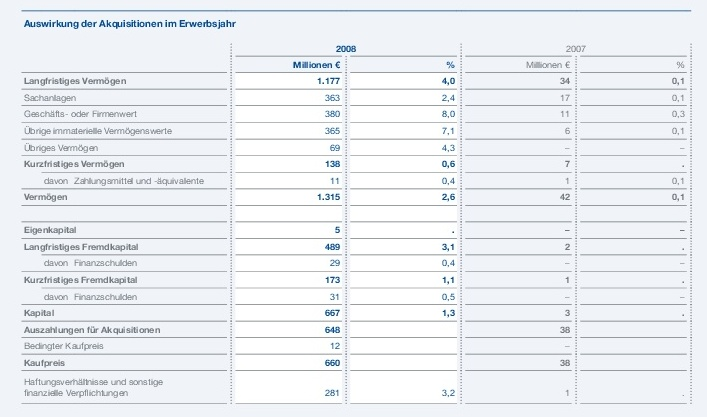table: (0, 0, 707, 417)
